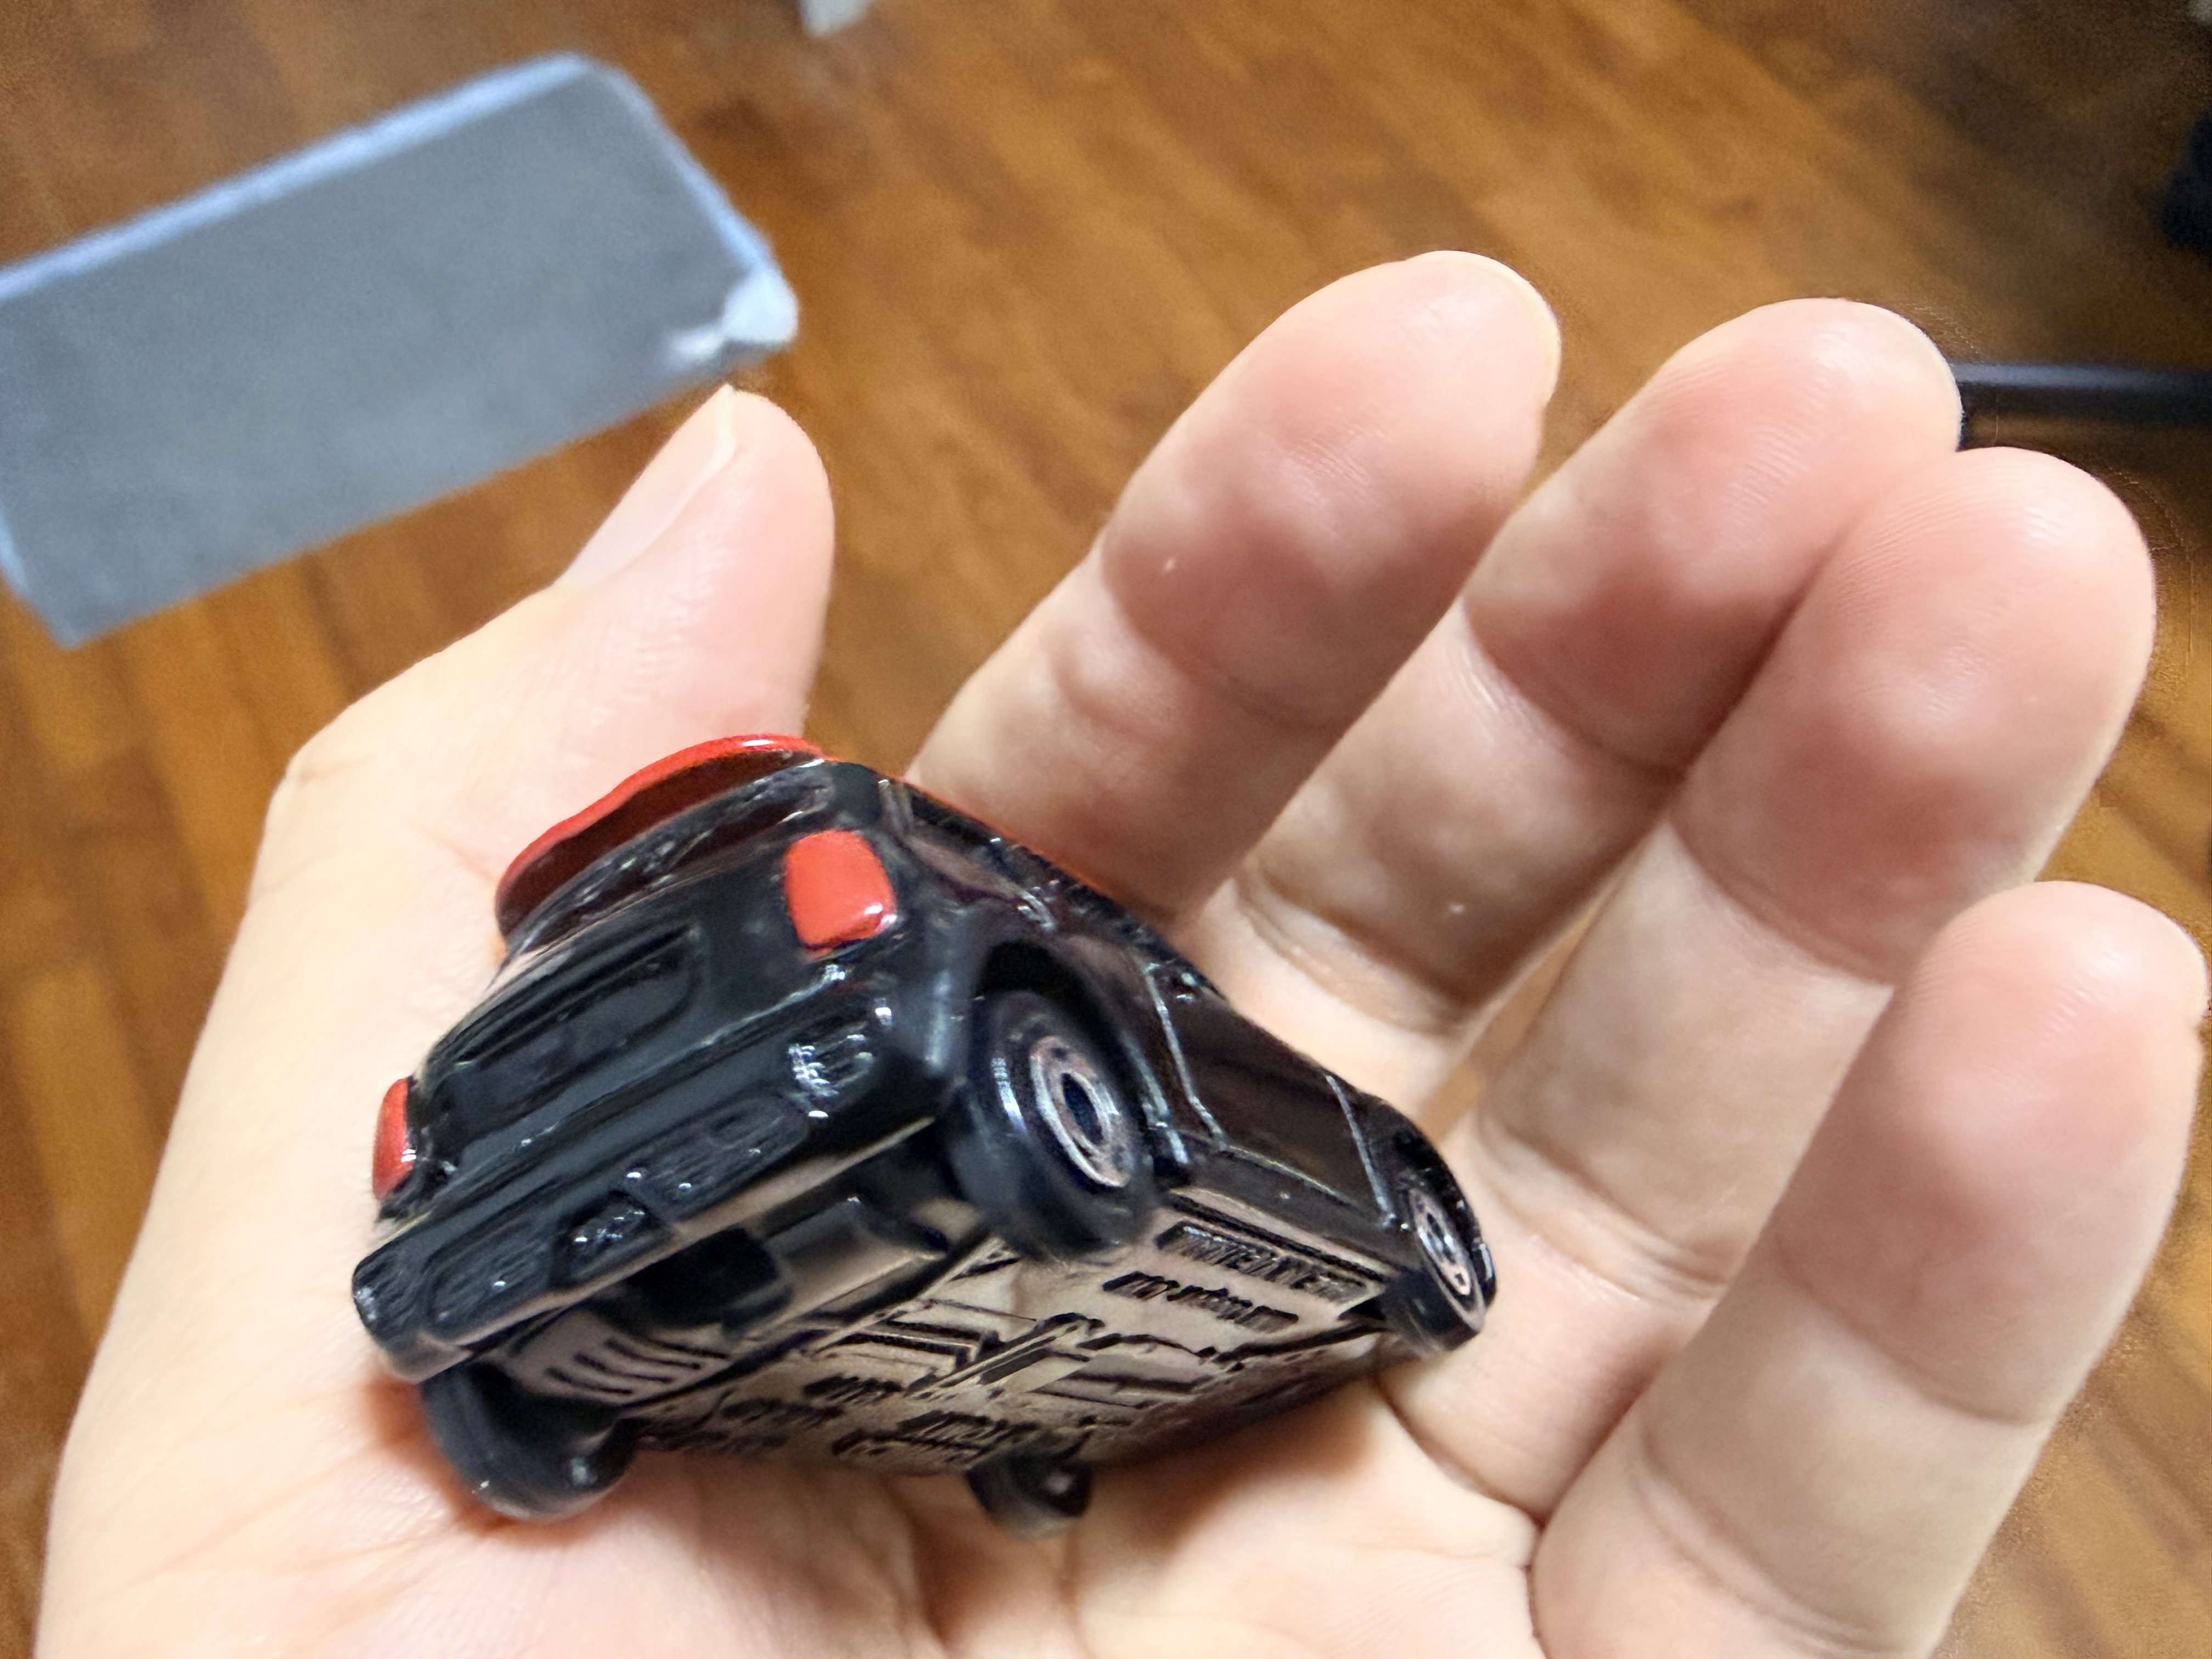mini_cooper: (350, 730, 1498, 1542)
